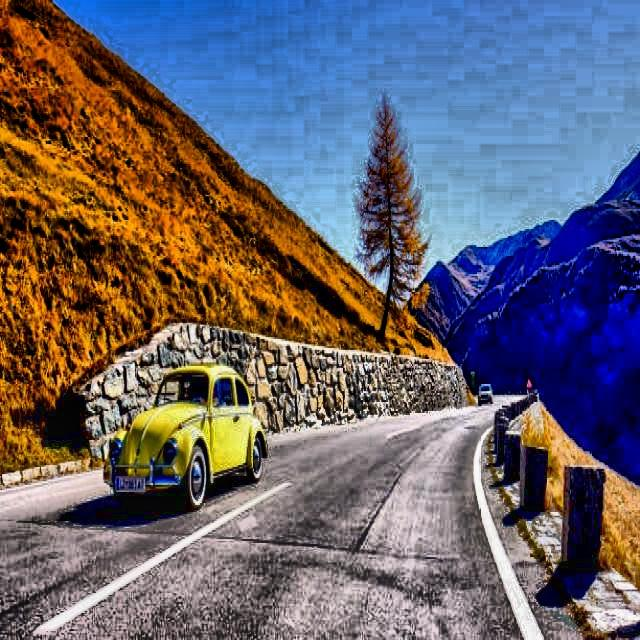carro: (109, 360, 268, 500)
